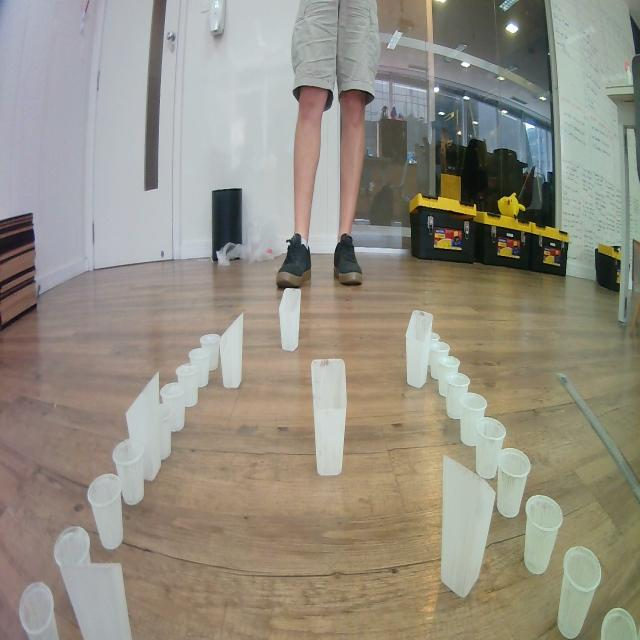erva_daninha: (440, 454, 496, 598), (59, 561, 133, 640), (310, 358, 346, 477), (125, 372, 162, 481), (406, 309, 433, 388), (219, 312, 244, 389), (278, 287, 302, 352)
planta: (557, 546, 602, 640), (524, 494, 564, 576), (86, 473, 124, 550), (496, 447, 531, 518), (53, 526, 91, 590), (19, 581, 59, 640), (112, 439, 146, 506), (474, 418, 506, 480), (458, 392, 488, 447), (159, 382, 186, 433), (445, 372, 471, 420), (601, 607, 637, 640), (175, 363, 199, 408), (437, 356, 461, 398), (155, 404, 172, 462), (188, 347, 212, 388), (430, 341, 450, 380), (200, 334, 221, 371), (430, 332, 440, 344)
